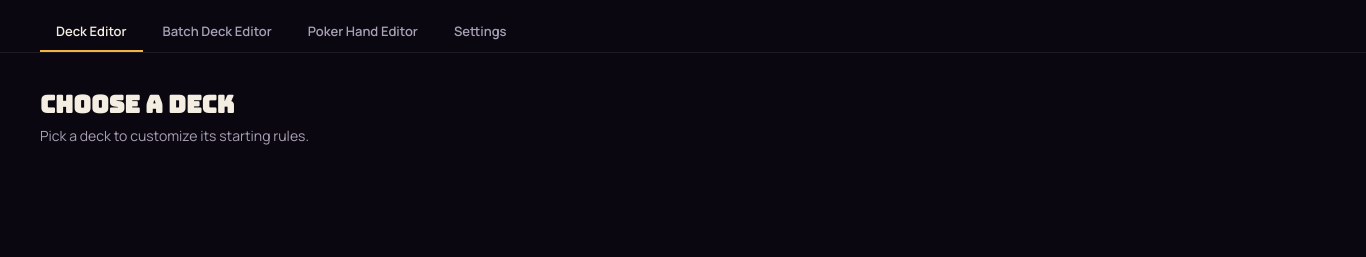
Test: MainTabs › switches back to the deck editor flow
Click the tab "Batch Deck Editor" at (217, 32), box [146, 12, 288, 52]
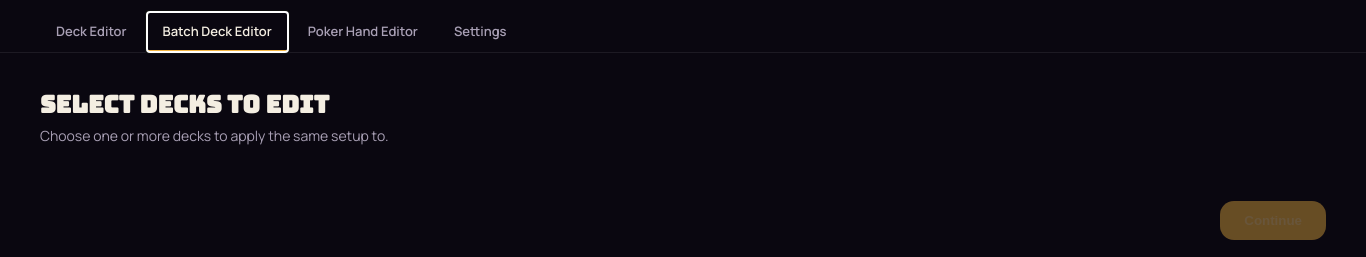
Expected: the heading "Select decks to edit" is shown, [40, 89, 329, 120]
Click the tab "Deck Editor" at (91, 32), box [40, 12, 142, 52]
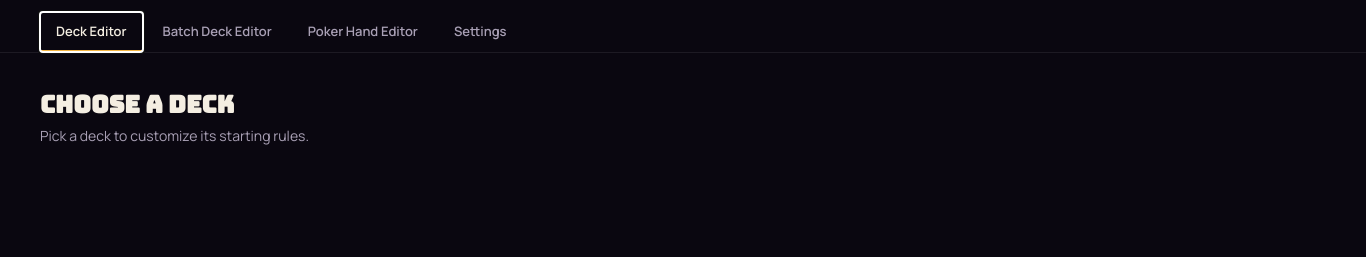
Expected: the heading "Choose a deck" is shown, [40, 89, 234, 120]
